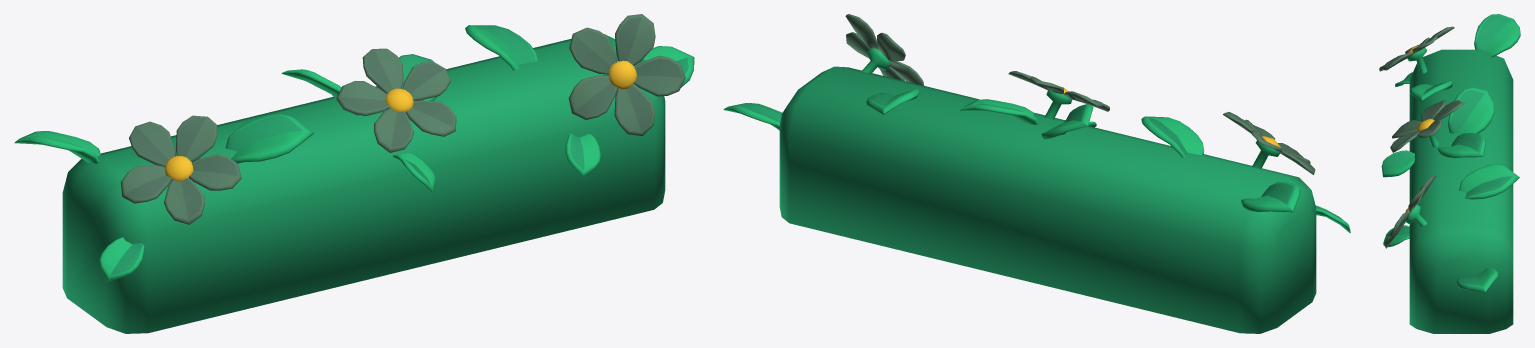
The model's file is WindowBush_Green.glb.
3 views of the same model, side by side, from view 1: azimuth 30°, elevation 25°; view 2: azimuth 150°, elevation 25°; view 3: azimuth 270°, elevation 25° (orthographic). The views are drawn at different scales.
Parts seen in each view (by area): view 1: WindowBush_Green; view 2: WindowBush_Green; view 3: WindowBush_Green.
Part boxes in pixels (bbox=[...]): WindowBush_Green: bbox=[14, 14, 694, 333]; WindowBush_Green: bbox=[723, 14, 1350, 333]; WindowBush_Green: bbox=[1379, 14, 1520, 333].
Bounding box in the file's own units: 0.8234 × 0.2303 × 0.215.
Materials: 1 (1 with a texture image).
